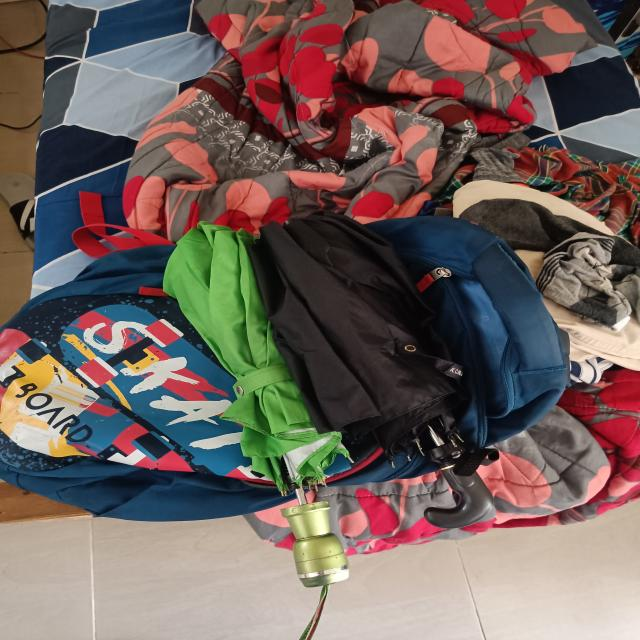umbrella: (264, 212, 498, 531), (161, 223, 355, 595)
